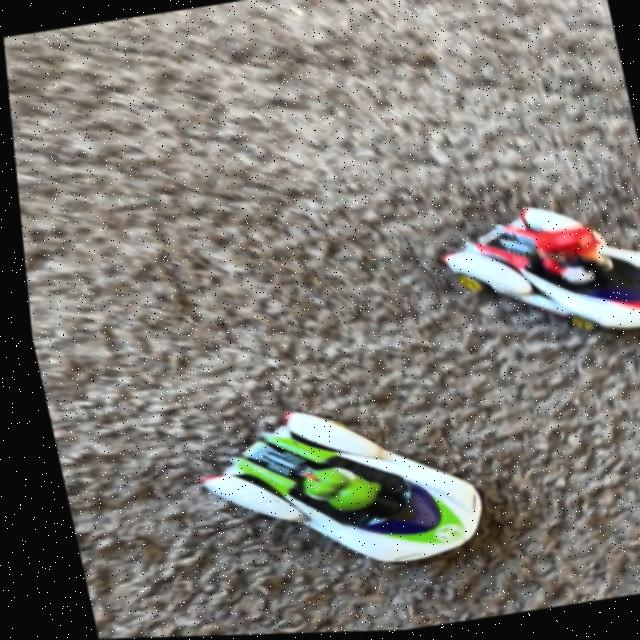mario: (416, 177, 640, 372)
yoshi: (150, 366, 513, 613)
